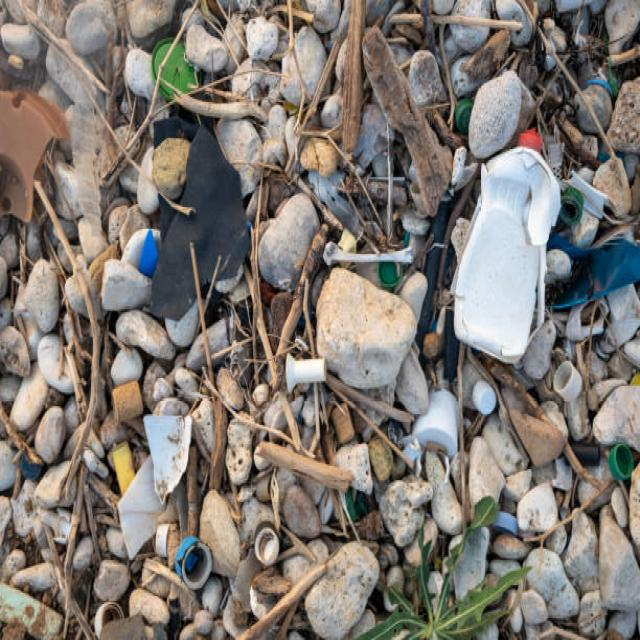plastic: (460, 116, 567, 364)
